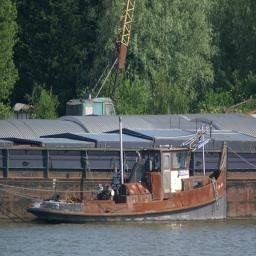tugboat: (27, 142, 233, 227)
